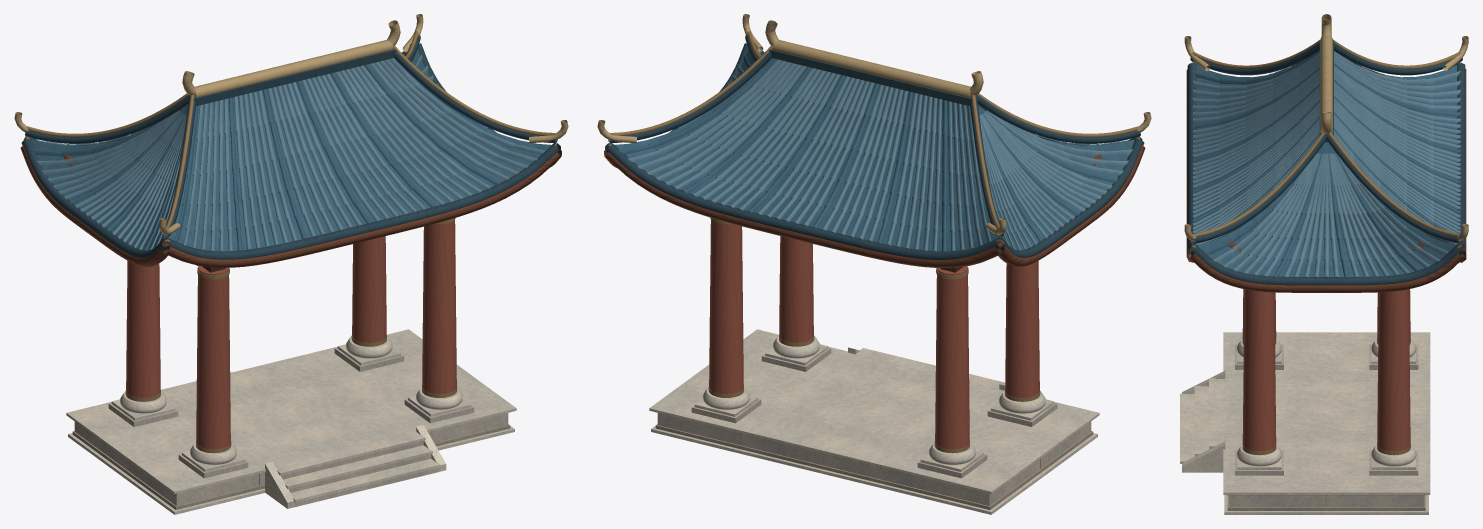
The picture shows the model from 3 angles, left to right: view 1: azimuth 30°, elevation 25°; view 2: azimuth 150°, elevation 25°; view 3: azimuth 270°, elevation 25°; orthographic projection. The views are drawn at different scales.
Visible parts, largest first — view 1: SingleRidgeRoof_tileRound, GateThreshold_stonePale, SingleRidgeRoof_glaze, ClearGateway_lacquer, SingleRidgeRoof_shadowTile, GateThreshold_stone, SingleRidgeRoof_heartwood, ClearGateway_stonePale, SingleRidgeRoof_gold, SingleRidgeRoof_bronze, ClearGateway_stone, GateThreshold_carving (+1 smaller); view 2: SingleRidgeRoof_tileRound, GateThreshold_stonePale, SingleRidgeRoof_glaze, ClearGateway_lacquer, SingleRidgeRoof_shadowTile, GateThreshold_stone, SingleRidgeRoof_heartwood, ClearGateway_stonePale, SingleRidgeRoof_gold, SingleRidgeRoof_bronze, GateThreshold_carving, ClearGateway_stone (+1 smaller); view 3: SingleRidgeRoof_tileRound, GateThreshold_stonePale, SingleRidgeRoof_glaze, ClearGateway_lacquer, SingleRidgeRoof_shadowTile, SingleRidgeRoof_heartwood, GateThreshold_stone, SingleRidgeRoof_bronze, SingleRidgeRoof_gold, ClearGateway_stonePale, ClearGateway_stone, GateThreshold_carving.
Boxes of the visible parts, bbox=[...] form: SingleRidgeRoof_tileRound: bbox=[36, 54, 545, 251]; GateThreshold_stonePale: bbox=[66, 329, 516, 514]; SingleRidgeRoof_glaze: bbox=[31, 49, 551, 251]; ClearGateway_lacquer: bbox=[126, 220, 456, 449]; SingleRidgeRoof_shadowTile: bbox=[21, 35, 560, 259]; GateThreshold_stone: bbox=[74, 413, 508, 506]; SingleRidgeRoof_heartwood: bbox=[20, 145, 561, 267]; ClearGateway_stonePale: bbox=[111, 336, 471, 471]; SingleRidgeRoof_gold: bbox=[14, 14, 568, 235]; SingleRidgeRoof_bronze: bbox=[25, 31, 557, 245]; ClearGateway_stone: bbox=[108, 347, 474, 478]; GateThreshold_carving: bbox=[72, 424, 510, 509]; SingleRidgeRoof_tileRound: bbox=[628, 52, 1132, 251]; GateThreshold_stonePale: bbox=[649, 329, 1099, 514]; SingleRidgeRoof_glaze: bbox=[615, 49, 1134, 251]; ClearGateway_lacquer: bbox=[709, 220, 1039, 449]; SingleRidgeRoof_shadowTile: bbox=[605, 35, 1144, 259]; GateThreshold_stone: bbox=[657, 413, 1091, 505]; SingleRidgeRoof_heartwood: bbox=[604, 145, 1145, 267]; ClearGateway_stonePale: bbox=[694, 336, 1054, 471]; SingleRidgeRoof_gold: bbox=[597, 14, 1151, 235]; SingleRidgeRoof_bronze: bbox=[608, 31, 1140, 244]; GateThreshold_carving: bbox=[655, 424, 1093, 509]; ClearGateway_stone: bbox=[691, 347, 1057, 478]; SingleRidgeRoof_tileRound: bbox=[1193, 51, 1460, 277]; GateThreshold_stonePale: bbox=[1180, 332, 1430, 514]; SingleRidgeRoof_glaze: bbox=[1193, 51, 1460, 277]; ClearGateway_lacquer: bbox=[1242, 289, 1410, 451]; SingleRidgeRoof_shadowTile: bbox=[1187, 40, 1465, 285]; SingleRidgeRoof_heartwood: bbox=[1186, 68, 1466, 292]; GateThreshold_stone: bbox=[1229, 495, 1424, 507]; SingleRidgeRoof_bronze: bbox=[1191, 39, 1461, 248]; SingleRidgeRoof_gold: bbox=[1184, 14, 1468, 240]; ClearGateway_stonePale: bbox=[1237, 339, 1416, 469]; ClearGateway_stone: bbox=[1235, 344, 1418, 475]; GateThreshold_carving: bbox=[1227, 495, 1426, 510].
Bounding box in the file's own units: 7.53 × 6.84 × 4.81.
12 materials, 12 textured.
